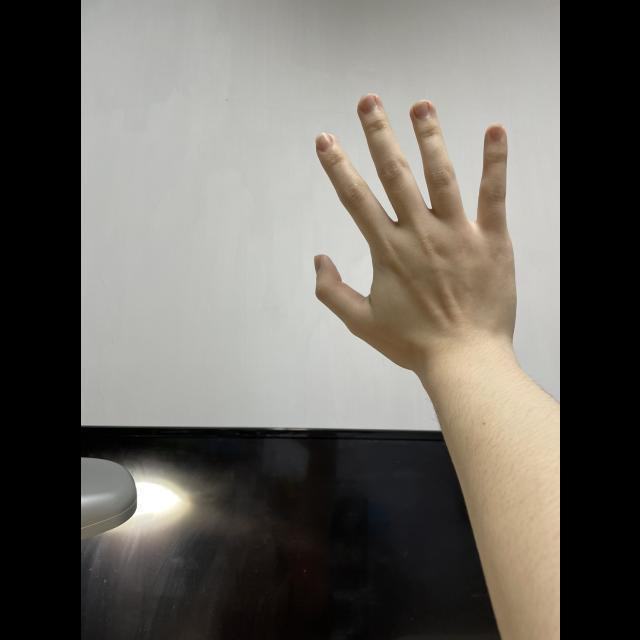bare_hand: (309, 90, 519, 353)
